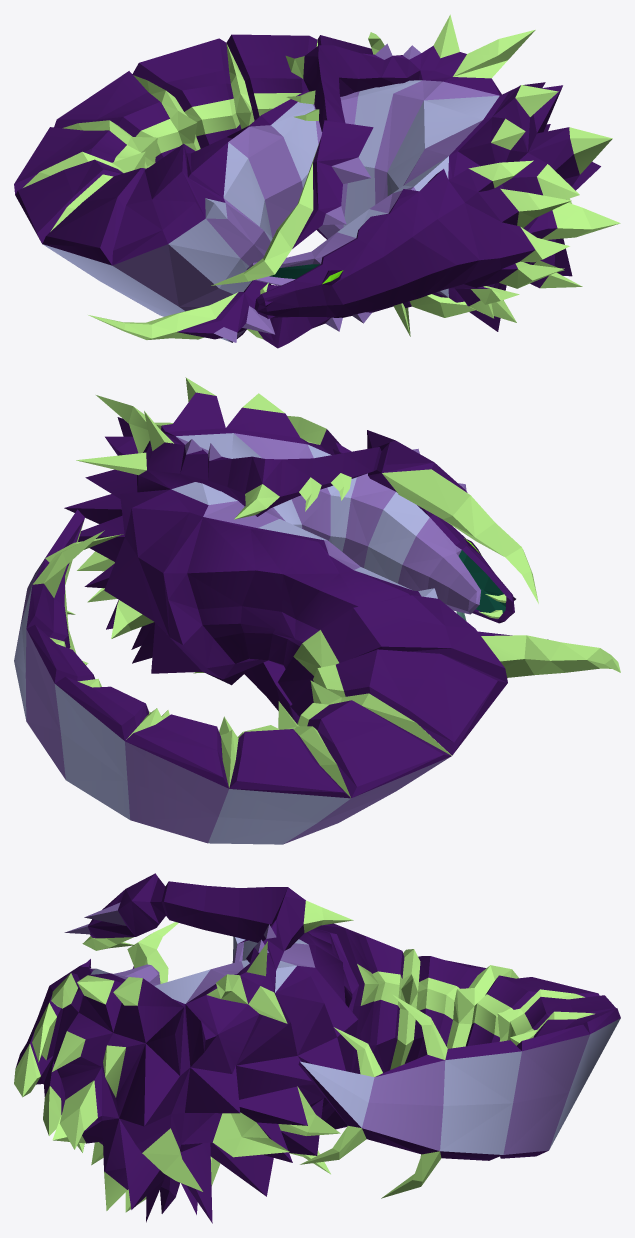
The picture shows the model from 3 angles, top to bottom: view 1: azimuth 30°, elevation 25°; view 2: azimuth 150°, elevation 25°; view 3: azimuth 270°, elevation 25°; orthographic projection. The views are drawn at different scales.
Parts seen in each view (by area): view 1: Alien_Serpent; view 2: Alien_Serpent; view 3: Alien_Serpent.
Boxes of the visible parts, box(x1,y1,x2,y2) form: Alien_Serpent: box(14, 14, 620, 348); Alien_Serpent: box(14, 377, 620, 844); Alien_Serpent: box(14, 873, 620, 1223).
Bounding box in the file's own units: 240 × 140 × 242.
Materials: 1 (1 with a texture image).
